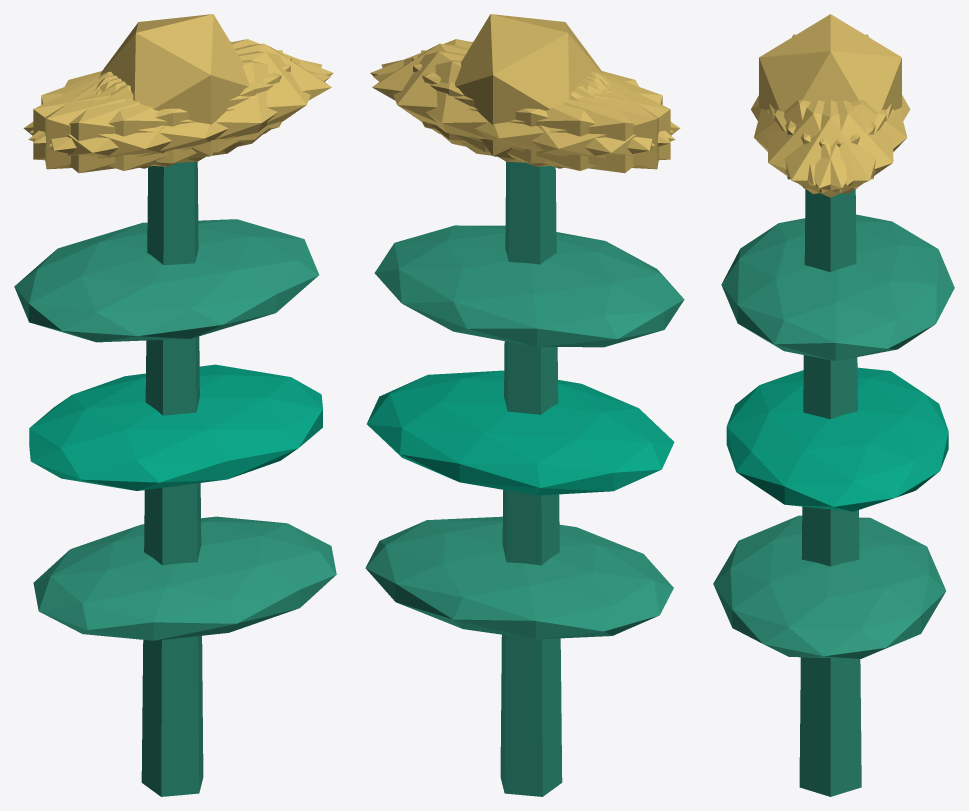
The model's file is elaeocarpus-grandis.glb.
3 views of the same model, side by side, from view 1: azimuth 30°, elevation 25°; view 2: azimuth 150°, elevation 25°; view 3: azimuth 270°, elevation 25° (orthographic).
Visible parts, largest first — view 1: leaf0, leaf2, leaf1, stem, center, petal1, petal6, petal2, petal5, petal7, petal0, petal4 (+2 smaller); view 2: leaf2, leaf1, leaf0, stem, center, petal8, petal3, petal7, petal4, petal2, petal0, petal5 (+2 smaller); view 3: leaf2, leaf0, leaf1, stem, center, petal0, petal4, petal5, petal8, petal1.
Part boxes in pixels (x1=…): leaf0: x1=33, y1=516, x2=336, y2=640; leaf2: x1=14, y1=219, x2=318, y2=342; leaf1: x1=29, y1=364, x2=322, y2=490; stem: x1=141, y1=161, x2=203, y2=796; center: x1=100, y1=14, x2=248, y2=158; petal1: x1=28, y1=60, x2=330, y2=170; petal6: x1=23, y1=73, x2=242, y2=173; petal2: x1=45, y1=50, x2=282, y2=169; petal5: x1=49, y1=51, x2=322, y2=163; petal7: x1=33, y1=56, x2=291, y2=166; petal0: x1=99, y1=43, x2=331, y2=152; petal4: x1=30, y1=39, x2=333, y2=143; leaf2: x1=374, y1=225, x2=684, y2=347; leaf1: x1=367, y1=370, x2=674, y2=495; leaf0: x1=365, y1=516, x2=673, y2=639; stem: x1=500, y1=161, x2=562, y2=796; center: x1=454, y1=14, x2=603, y2=158; petal8: x1=373, y1=60, x2=675, y2=170; petal3: x1=461, y1=73, x2=680, y2=173; petal7: x1=421, y1=50, x2=658, y2=169; petal4: x1=381, y1=51, x2=654, y2=163; petal2: x1=412, y1=56, x2=670, y2=166; petal0: x1=372, y1=43, x2=603, y2=152; petal5: x1=370, y1=39, x2=673, y2=143; leaf2: x1=721, y1=214, x2=954, y2=360; leaf0: x1=713, y1=515, x2=945, y2=658; leaf1: x1=726, y1=367, x2=948, y2=511; stem: x1=799, y1=189, x2=861, y2=796; center: x1=759, y1=14, x2=901, y2=111; petal0: x1=769, y1=100, x2=891, y2=197; petal4: x1=774, y1=100, x2=893, y2=193; petal5: x1=767, y1=100, x2=886, y2=193; petal8: x1=785, y1=100, x2=907, y2=185; petal1: x1=754, y1=100, x2=875, y2=185.
Size of the model in its own units: 0.1452 by 0.3546 by 0.1035.
